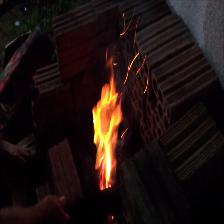fire: (74, 41, 150, 202)
